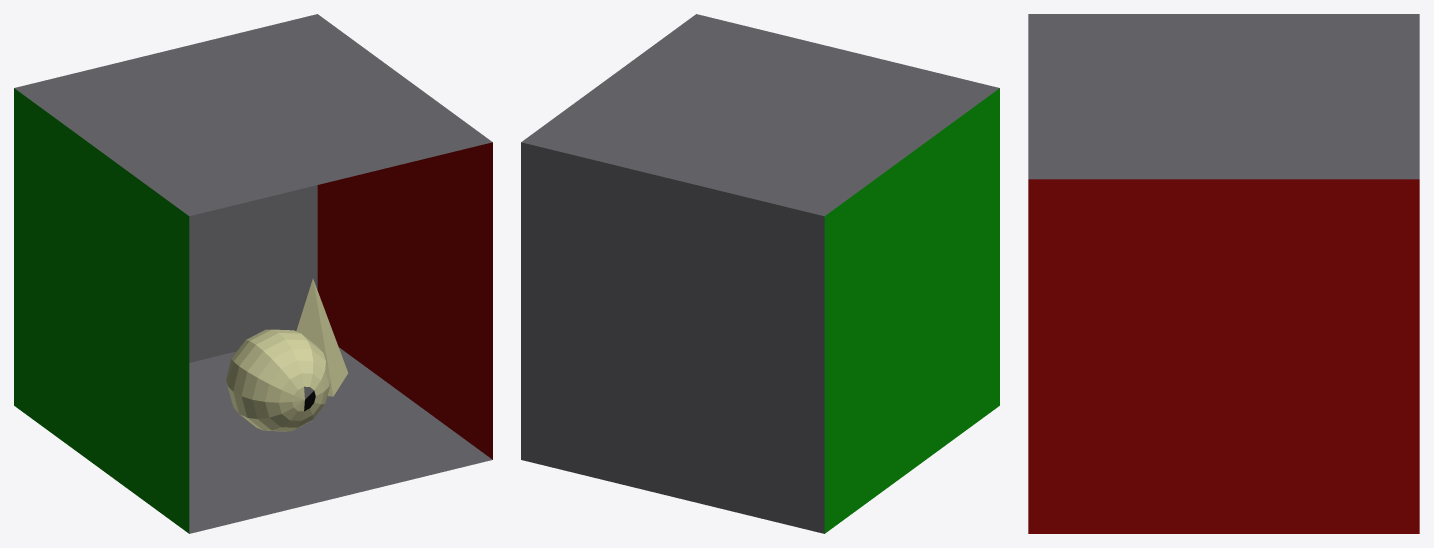
The model's file is cornell_box2.obj.
3 views of the same model, side by side, from view 1: azimuth 30°, elevation 25°; view 2: azimuth 150°, elevation 25°; view 3: azimuth 270°, elevation 25° (orthographic). The views are drawn at different scales.
Size of the model in its own units: 1 by 1 by 1.
